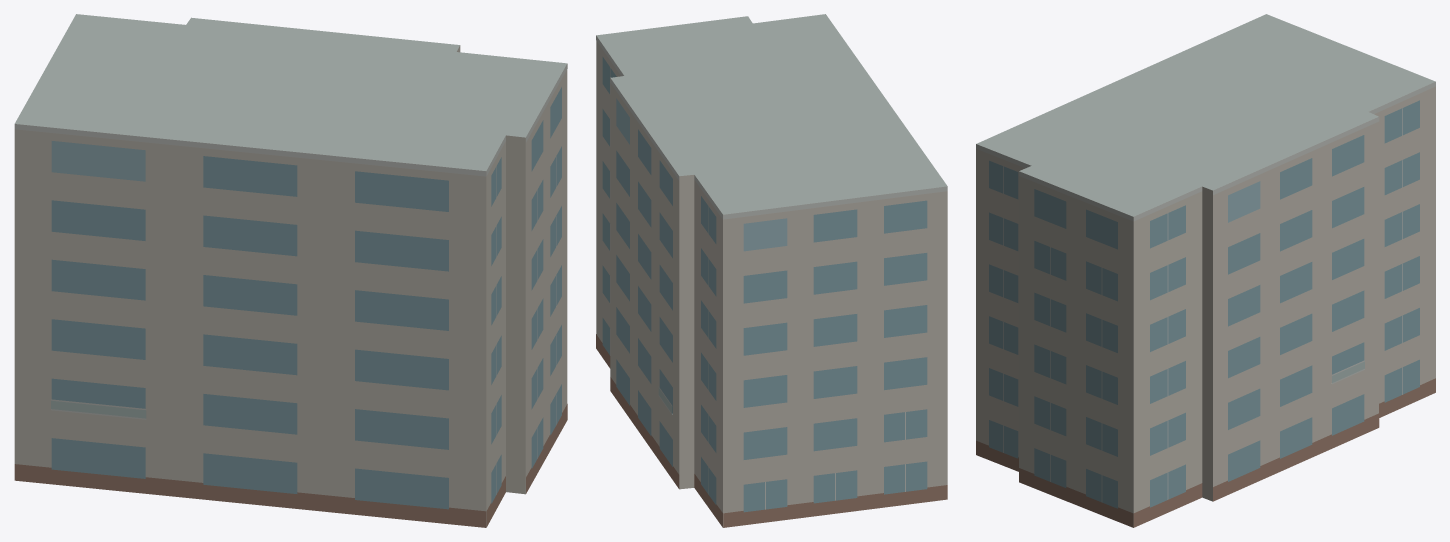
The model's file is survey-upis-32837596.glb.
3 views of the same model, side by side, from view 1: azimuth 30°, elevation 25°; view 2: azimuth 150°, elevation 25°; view 3: azimuth 270°, elevation 25° (orthographic). The views are drawn at different scales.
Visible parts, largest first — view 1: survey-upis-32837596.tmp; view 2: survey-upis-32837596.tmp; view 3: survey-upis-32837596.tmp.
Boxes of the visible parts, left/top/right/bottom form: survey-upis-32837596.tmp: left=14, top=14, right=567, bottom=527; survey-upis-32837596.tmp: left=596, top=14, right=947, bottom=527; survey-upis-32837596.tmp: left=976, top=14, right=1435, bottom=527.
Size of the model in its own units: 22.31 by 15.95 by 21.37.
